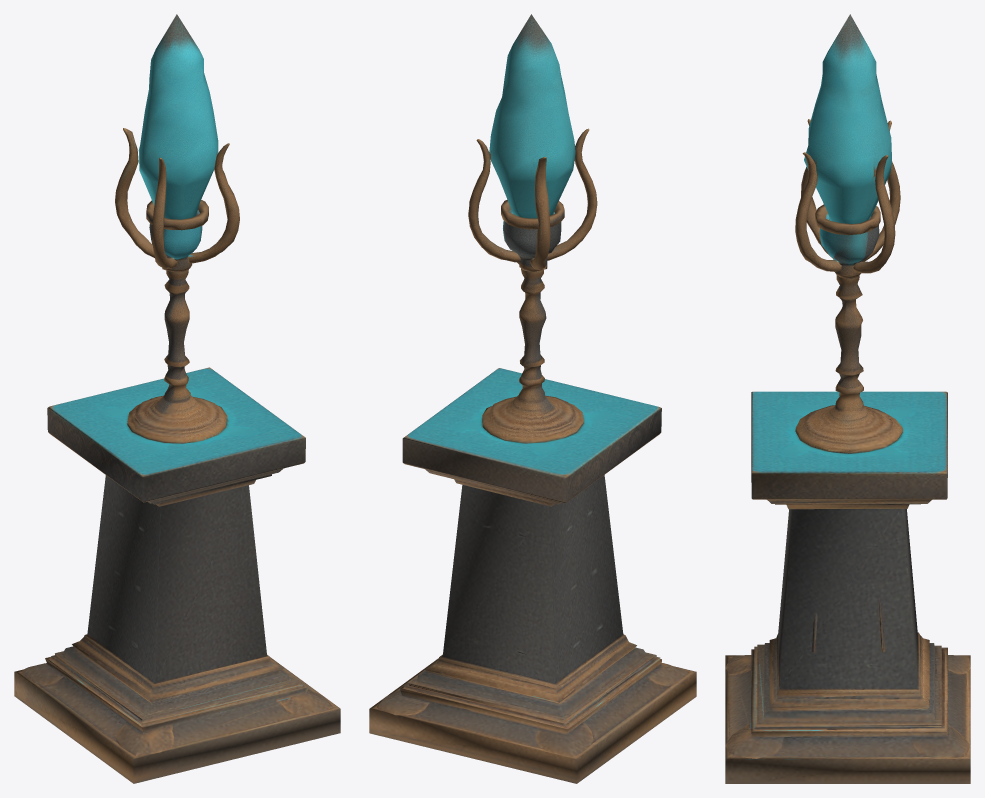
3 renders of one model, left to right at view 1: azimuth 30°, elevation 25°; view 2: azimuth 150°, elevation 25°; view 3: azimuth 270°, elevation 25°, orthographic. The views are drawn at different scales.
Size of the model in its own units: 0.2944 by 0.9517 by 0.2944.
1 material, 1 textured.
